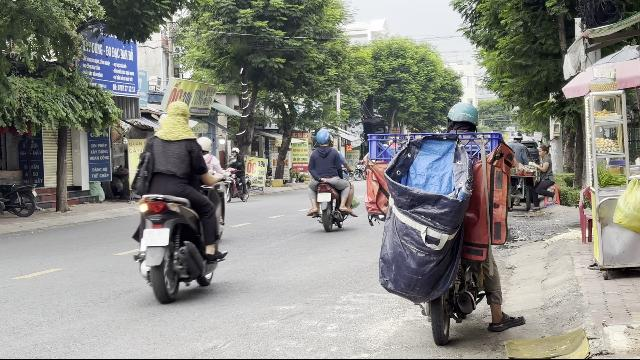helmet: (446, 100, 478, 130), (313, 127, 331, 146)
licenseplate: (143, 228, 169, 246), (318, 193, 330, 202)
motorcyclist: (369, 98, 527, 348), (128, 98, 228, 302), (304, 128, 356, 231)
nohelmet: (153, 100, 197, 142)
